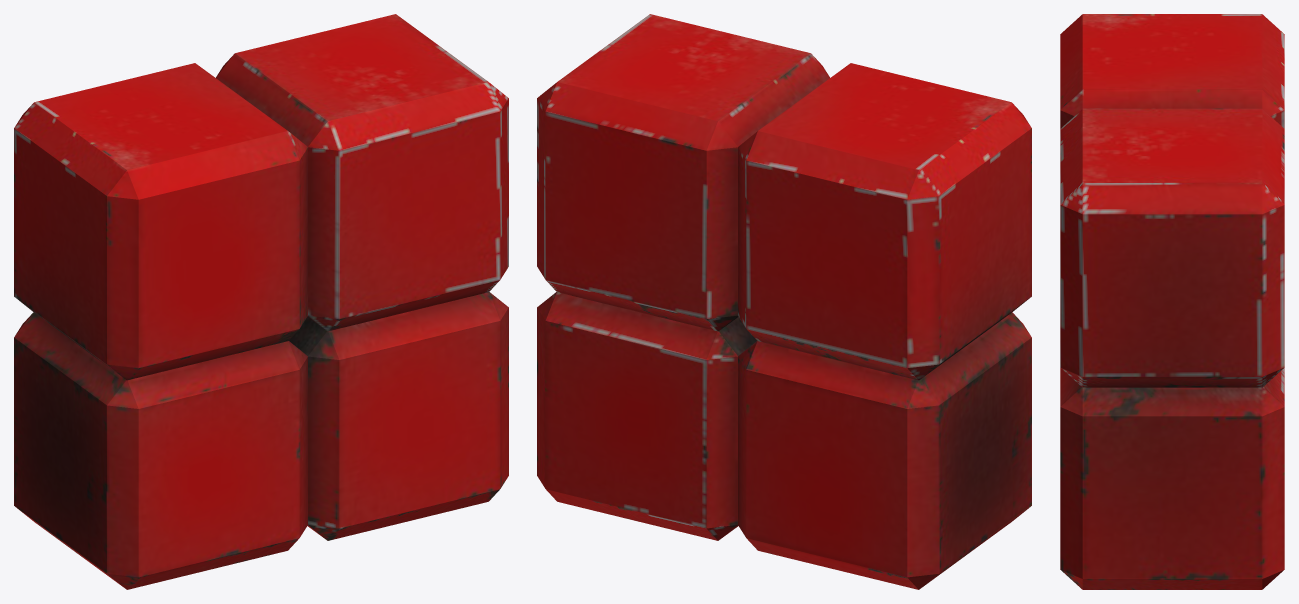
The model's file is blocks_1.fbx.
3 renders of one model, left to right at view 1: azimuth 30°, elevation 25°; view 2: azimuth 150°, elevation 25°; view 3: azimuth 270°, elevation 25°, orthographic. The views are drawn at different scales.
Visible parts, largest first — view 1: polySurface20; view 2: polySurface20; view 3: polySurface20.
Boxes of the visible parts, x1,y1,x2,y2 form: polySurface20: (14, 14, 508, 589); polySurface20: (537, 14, 1031, 589); polySurface20: (1060, 14, 1284, 589).
Bounding box in the file's own units: 2 × 1.99 × 1.
